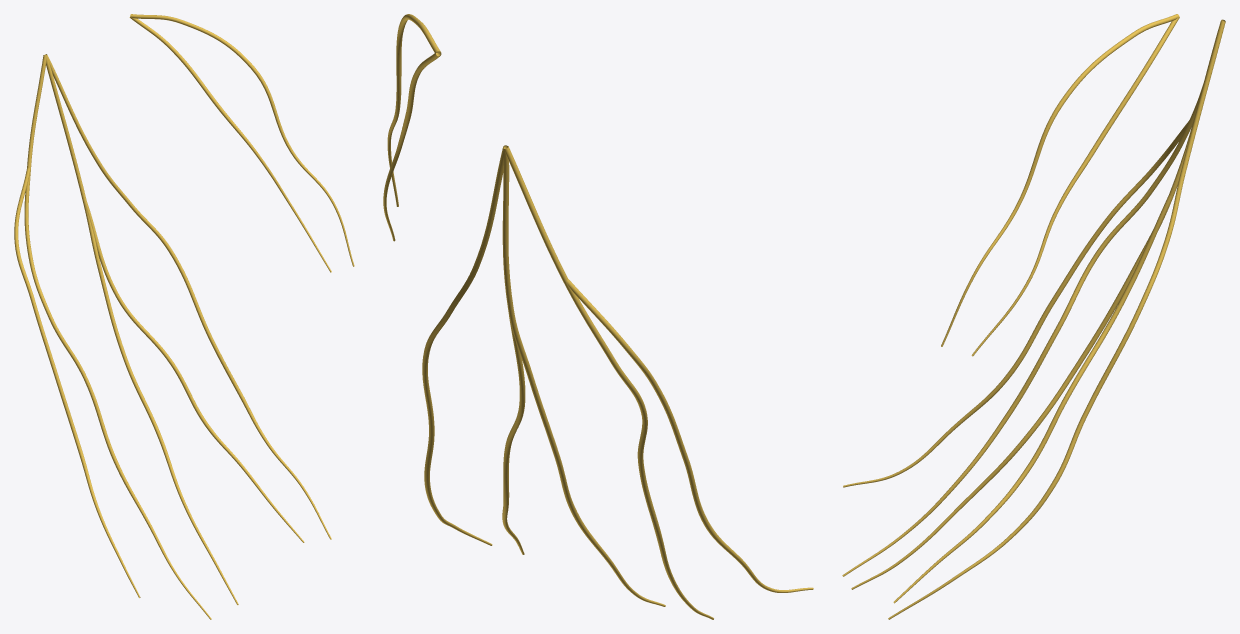
Rendered from Dorsal_digital_branches_ulnar_nerve_left.glb.
The picture shows the model from 3 angles, left to right: view 1: azimuth 30°, elevation 25°; view 2: azimuth 150°, elevation 25°; view 3: azimuth 270°, elevation 25°; orthographic projection. The views are drawn at different scales.
Visible parts, largest first — view 1: Dorsal_digital_branches_of_ulnar_nerve.l_BezierCurve.531; view 2: Dorsal_digital_branches_of_ulnar_nerve.l_BezierCurve.531; view 3: Dorsal_digital_branches_of_ulnar_nerve.l_BezierCurve.531.
Part boxes in pixels (x1,y1,x2,y2): Dorsal_digital_branches_of_ulnar_nerve.l_BezierCurve.531: (14, 14, 354, 619); Dorsal_digital_branches_of_ulnar_nerve.l_BezierCurve.531: (383, 14, 813, 619); Dorsal_digital_branches_of_ulnar_nerve.l_BezierCurve.531: (842, 14, 1225, 619).
Bounding box in the file's own units: 0.0721 × 0.1326 × 0.0769.
